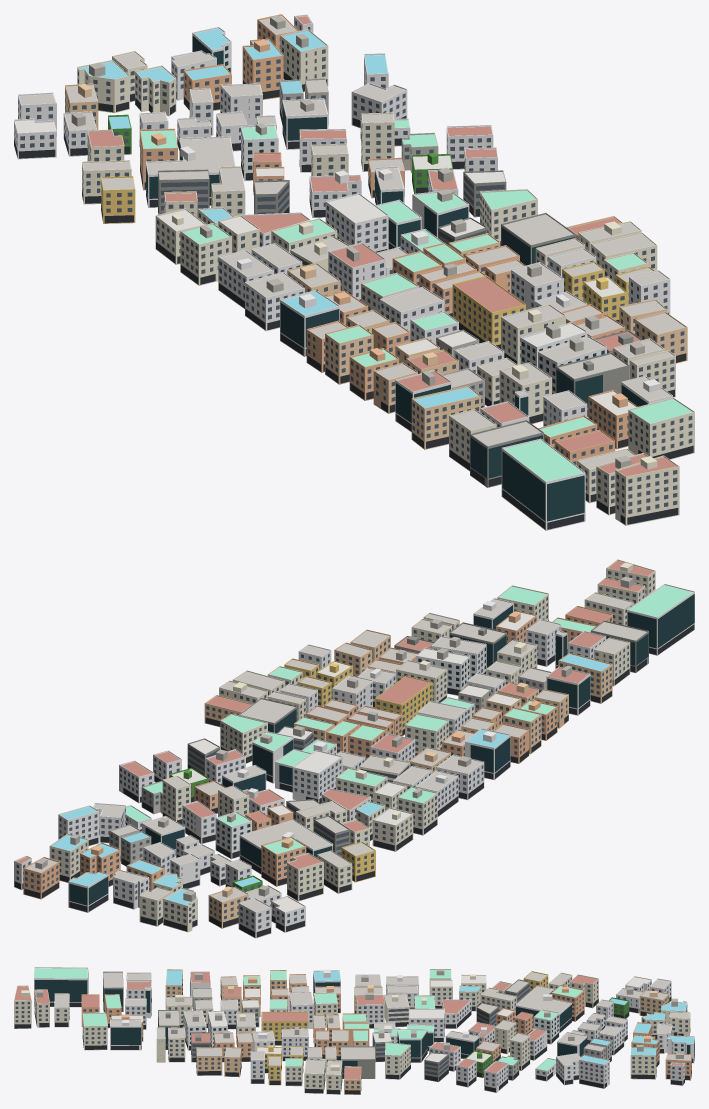
3 renders of one model, top to bottom at view 1: azimuth 30°, elevation 25°; view 2: azimuth 150°, elevation 25°; view 3: azimuth 270°, elevation 25°, orthographic. The views are drawn at different scales.
Visible parts, largest first — view 1: a3_se; view 2: a3_se; view 3: a3_se.
Boxes of the visible parts, <box> form: a3_se: <box>14,14,694,530</box>; a3_se: <box>14,559,694,938</box>; a3_se: <box>14,967,694,1094</box>.
Bounding box in the file's own units: 150 × 20.99 × 413.
